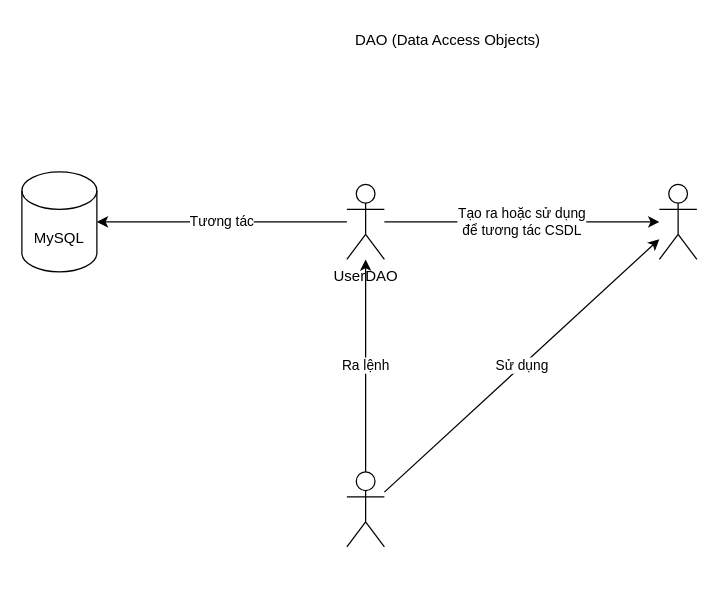
The diagram is 719 pixels wide and 594 high, and some of its shapes have lost their labels. Each missing label, with the box of its shape:
Chương trình: (346, 471, 384, 547)
User: (658, 183, 697, 259)
